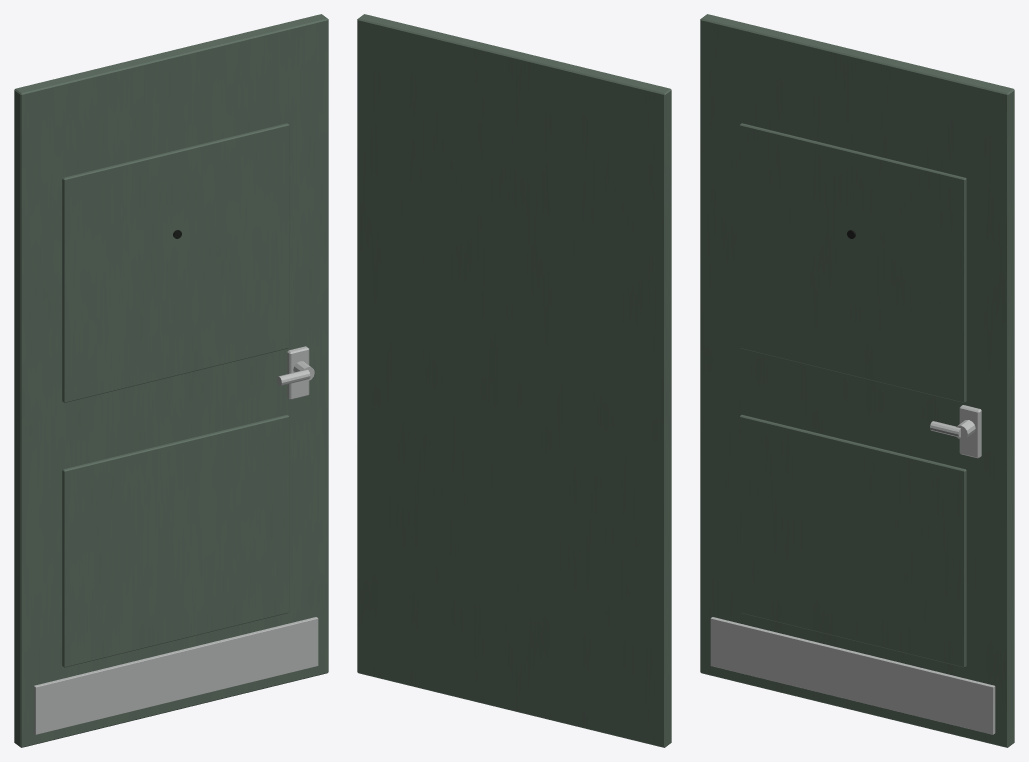
File: room_door_leaf_candidate.glb
3 views of the same model, side by side, from view 1: azimuth 30°, elevation 25°; view 2: azimuth 150°, elevation 25°; view 3: azimuth 330°, elevation 25° (orthographic).
Parts seen in each view (by area): view 1: INSTANCE__room_door_leaf__015; view 2: INSTANCE__room_door_leaf__015; view 3: INSTANCE__room_door_leaf__015.
Boxes of the visible parts, x1,y1,x2,y2 form: INSTANCE__room_door_leaf__015: (14,14,328,747); INSTANCE__room_door_leaf__015: (357,14,671,747); INSTANCE__room_door_leaf__015: (700,14,1014,747).
Size of the model in its own units: 1.08 by 2.19 by 0.1375.
3 materials, 1 textured.
